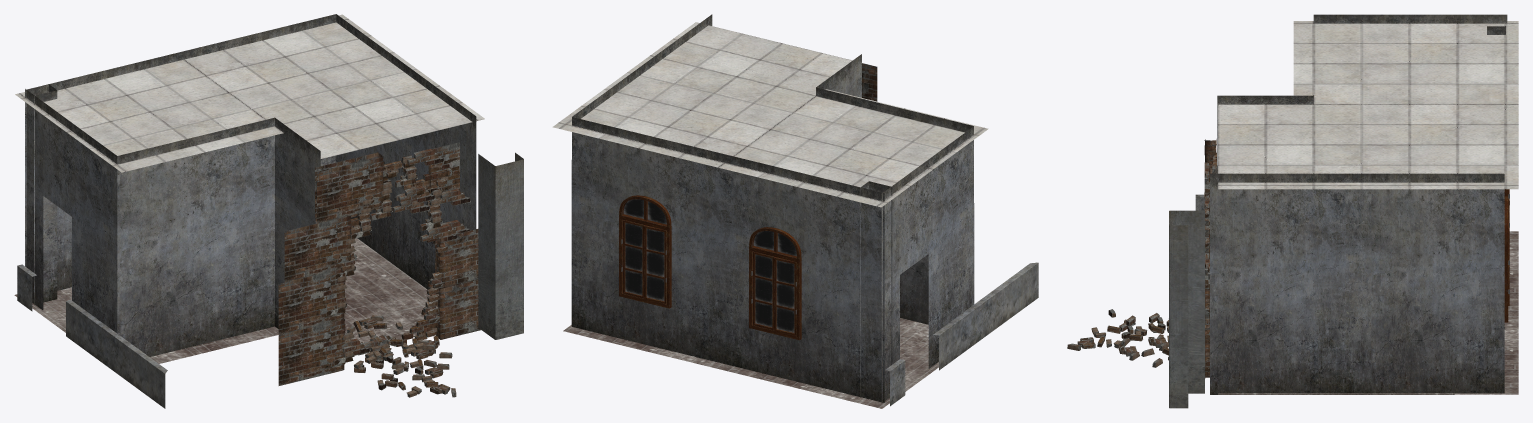
3 views of the same model, side by side, from view 1: azimuth 30°, elevation 25°; view 2: azimuth 150°, elevation 25°; view 3: azimuth 270°, elevation 25° (orthographic). The views are drawn at different scales.
Visible parts, largest first — view 1: LOD_1_Group_0_Sub_3__st2_policeWest3f4fWall02, LOD_1_Group_0_Sub_2__st2_police2fLeftCeiling04, LOD_1_Group_0_Sub_5__st2_policeWest3f4fBrick01, LOD_1_Group_0_Sub_4__st2_policeWest3f4fWall04, LOD_1_Group_0_Sub_1__st2_policeWest3f4fFloor02; view 2: LOD_1_Group_0_Sub_3__st2_policeWest3f4fWall02, LOD_1_Group_0_Sub_2__st2_police2fLeftCeiling04, LOD_1_Group_0_Sub_6__st2_policeWest3f4fWindow01_Glass, LOD_1_Group_0_Sub_7__st2_policeWest3f4fWindow01, LOD_1_Group_0_Sub_1__st2_policeWest3f4fFloor02, LOD_1_Group_0_Sub_5__st2_policeWest3f4fBrick01; view 3: LOD_1_Group_0_Sub_3__st2_policeWest3f4fWall02, LOD_1_Group_0_Sub_2__st2_police2fLeftCeiling04, LOD_1_Group_0_Sub_4__st2_policeWest3f4fWall04, LOD_1_Group_0_Sub_5__st2_policeWest3f4fBrick01, LOD_1_Group_0_Sub_1__st2_policeWest3f4fFloor02, LOD_1_Group_0_Sub_7__st2_policeWest3f4fWindow01.
Part boxes in pixels (<box>): LOD_1_Group_0_Sub_3__st2_policeWest3f4fWall02: <box>17,14,476,408</box>; LOD_1_Group_0_Sub_2__st2_police2fLeftCeiling04: <box>15,14,484,172</box>; LOD_1_Group_0_Sub_5__st2_policeWest3f4fBrick01: <box>278,142,480,397</box>; LOD_1_Group_0_Sub_4__st2_policeWest3f4fWall04: <box>478,152,523,339</box>; LOD_1_Group_0_Sub_1__st2_policeWest3f4fFloor02: <box>14,238,430,363</box>; LOD_1_Group_0_Sub_3__st2_policeWest3f4fWall02: <box>571,14,1038,406</box>; LOD_1_Group_0_Sub_2__st2_police2fLeftCeiling04: <box>552,22,988,207</box>; LOD_1_Group_0_Sub_6__st2_policeWest3f4fWindow01_Glass: <box>623,199,796,332</box>; LOD_1_Group_0_Sub_7__st2_policeWest3f4fWindow01: <box>619,195,801,340</box>; LOD_1_Group_0_Sub_1__st2_policeWest3f4fFloor02: <box>563,318,938,408</box>; LOD_1_Group_0_Sub_5__st2_policeWest3f4fBrick01: <box>862,63,877,101</box>; LOD_1_Group_0_Sub_3__st2_policeWest3f4fWall02: <box>1195,14,1507,394</box>; LOD_1_Group_0_Sub_2__st2_police2fLeftCeiling04: <box>1218,21,1518,189</box>; LOD_1_Group_0_Sub_4__st2_policeWest3f4fWall04: <box>1169,210,1204,408</box>; LOD_1_Group_0_Sub_5__st2_policeWest3f4fBrick01: <box>1067,139,1217,378</box>; LOD_1_Group_0_Sub_1__st2_policeWest3f4fFloor02: <box>1218,231,1518,394</box>; LOD_1_Group_0_Sub_7__st2_policeWest3f4fWindow01: <box>1504,189,1509,322</box>.
Size of the model in its own units: 6.94 by 4.2 by 7.45.
